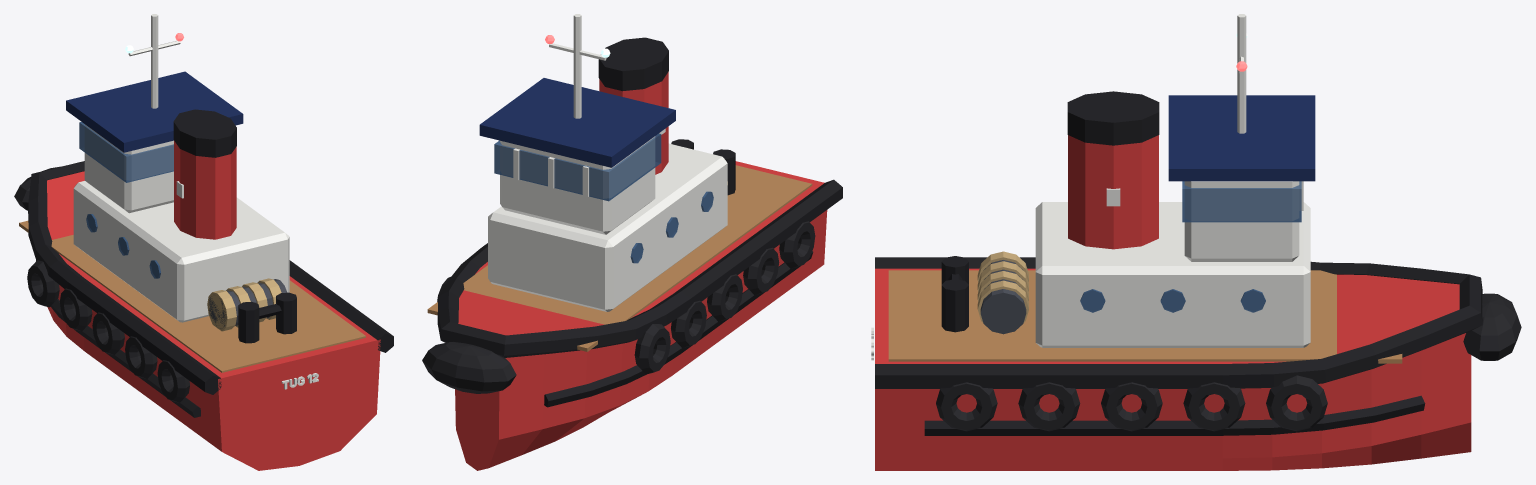
File: Tugboat.fbx
3 views of the same model, side by side, from view 1: azimuth 30°, elevation 25°; view 2: azimuth 150°, elevation 25°; view 3: azimuth 270°, elevation 25° (orthographic). The views are drawn at different scales.
Parts seen in each view (by area): view 1: Tugboat_Red, Tugboat_White, Tugboat_Black, Tugboat_Plank, Tugboat_Navy, Tugboat_Rubber, Tugboat_GlassDark, Tugboat_Rope, Tugboat_DarkMetal; view 2: Tugboat_White, Tugboat_Red, Tugboat_Black, Tugboat_Navy, Tugboat_Rubber, Tugboat_Plank, Tugboat_GlassDark; view 3: Tugboat_Red, Tugboat_White, Tugboat_Black, Tugboat_Plank, Tugboat_Rubber, Tugboat_Navy, Tugboat_GlassDark, Tugboat_Rope, Tugboat_DarkMetal.
Boxes of the visible parts, x1,y1,x2,y2 form: Tugboat_Red: (47,140,380,470); Tugboat_White: (73,14,318,389); Tugboat_Black: (28,109,393,417); Tugboat_Plank: (19,220,365,372); Tugboat_Navy: (66,71,243,152); Tugboat_Rubber: (14,166,189,402); Tugboat_GlassDark: (79,122,173,278); Tugboat_Rope: (207,278,281,331); Tugboat_DarkMetal: (208,279,287,328); Tugboat_White: (488,14,727,311); Tugboat_Red: (455,72,827,470); Tugboat_Black: (437,37,842,407); Tugboat_Navy: (479,78,675,167); Tugboat_Rubber: (422,221,815,393); Tugboat_Plank: (427,165,812,351); Tugboat_GlassDark: (494,133,713,263); Tugboat_Red: (875,135,1471,470); Tugboat_White: (871,14,1310,360); Tugboat_Black: (875,91,1482,435); Tugboat_Plank: (888,270,1402,363); Tugboat_Rubber: (936,293,1521,431); Tugboat_Navy: (1168,95,1315,181); Tugboat_GlassDark: (1080,181,1301,312); Tugboat_Rope: (977,251,1028,322); Tugboat_DarkMetal: (980,260,1026,334).
Bounding box in the file's own units: 12.18 × 21 × 28.36.
